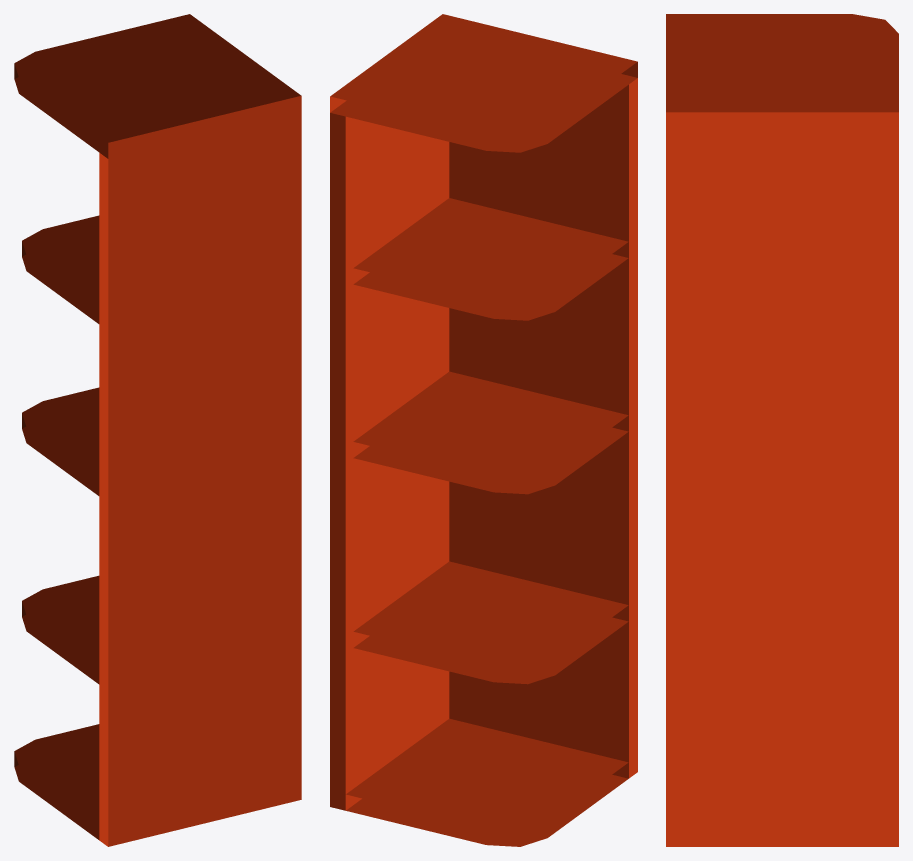
File: Shelf 4.fbx
3 renders of one model, left to right at view 1: azimuth 30°, elevation 25°; view 2: azimuth 150°, elevation 25°; view 3: azimuth 270°, elevation 25°, orthographic. The views are drawn at different scales.
Parts seen in each view (by area): view 1: Node 0; view 2: Node 0; view 3: Node 0.
Boxes of the visible parts, left/top/right/bottom form: Node 0: left=14, top=14, right=301, bottom=846; Node 0: left=330, top=14, right=637, bottom=846; Node 0: left=666, top=14, right=898, bottom=846.
Bounding box in the file's own units: 0.5 × 1.74 × 0.5.
